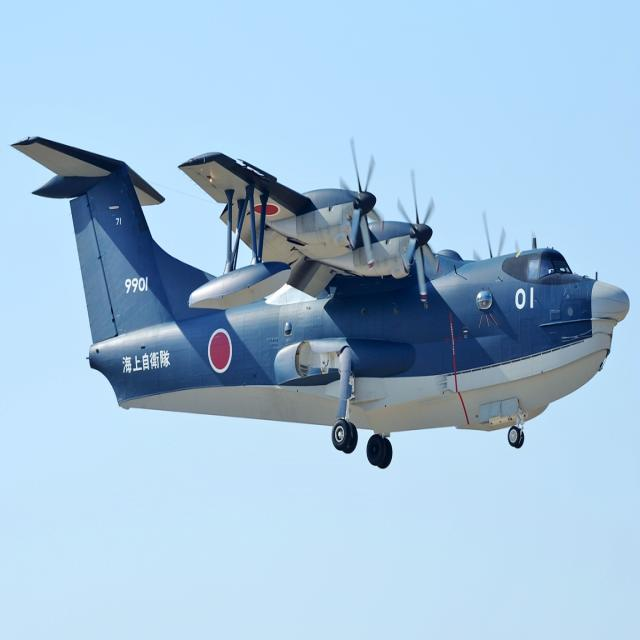MIL_Plane: (7, 135, 630, 469)
